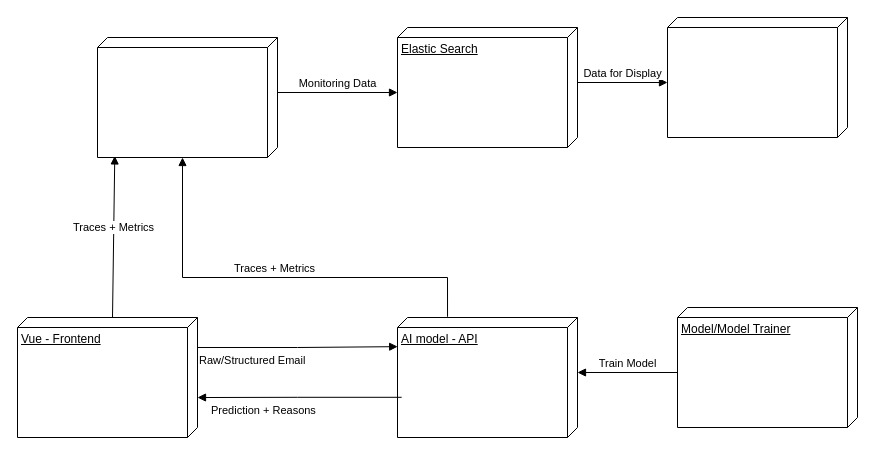
Image size: 875x455. Some labels were removed from this diagram. Each missing label, with the box of its shape:
APM Agent: (96, 36, 278, 158)
Kibana: (666, 16, 848, 138)
